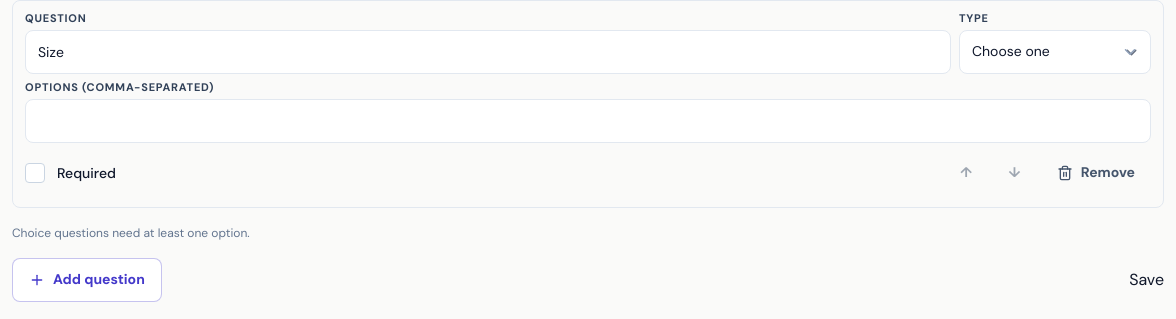
Test case: QuestionEditor › hides the options for a short answer and says what is still wrong
This screenshot has width=1176, height=319.
Check: the message shows "at least one option", box [12, 225, 250, 241]
Select "Short answer" in the dropdown labelled "Type". click: [1055, 52]
box: [959, 30, 1151, 74]
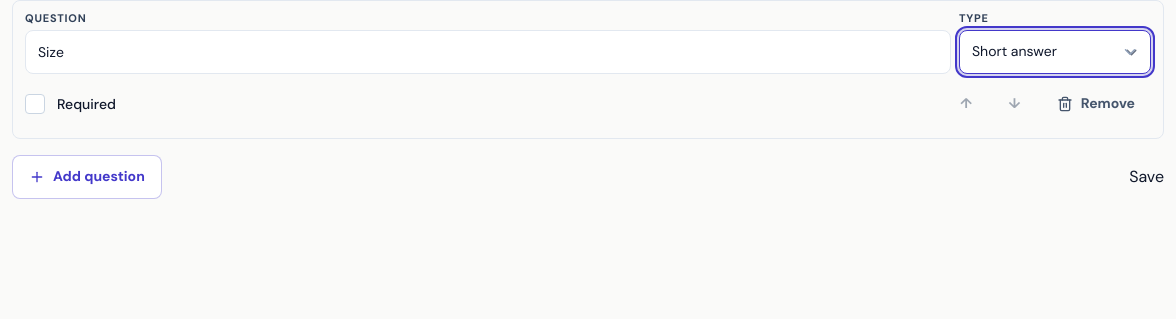
Check: the label labelled "Options (comma-separated)" is gone
Check: the message "Choice questions need at least one option." is gone
